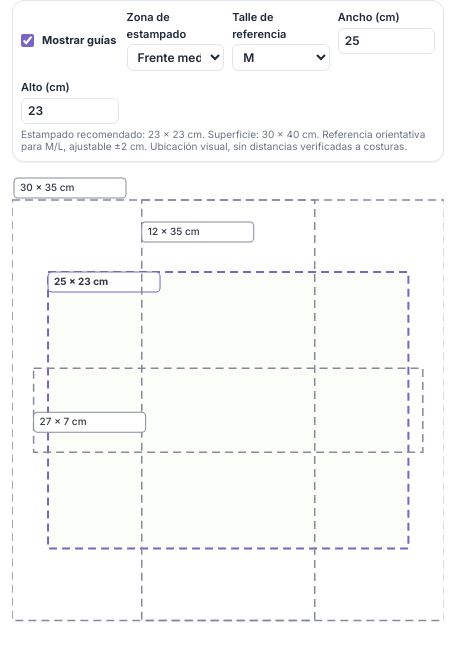
it: TshirtCanvas print guides › selects and adjusts a guide per size, and hides or shows it independently of Fabric
The width and height of the screenshot is (461, 667).
Earlier steps of the test are not shown.
Select "L" in the dropdown named "Talle de referencia de la guía" at (281, 58), box [232, 44, 330, 71]
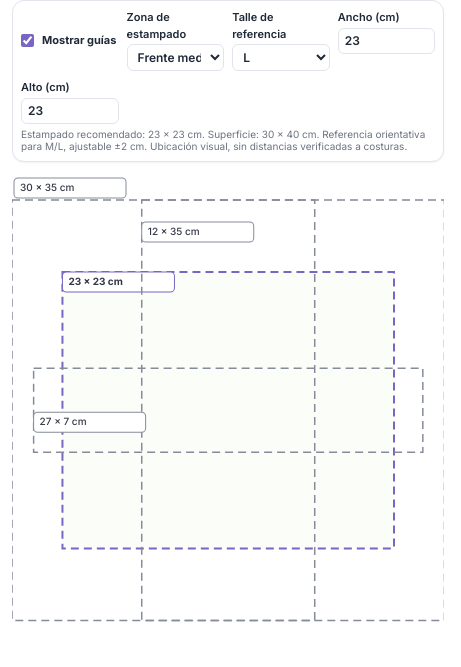
Now the number field named "Ancho de la guía en centímetros" holds "23"
Replace the text in the number field named "Ancho de la guía en centímetros" with "24" at (387, 40), box [338, 28, 435, 54]
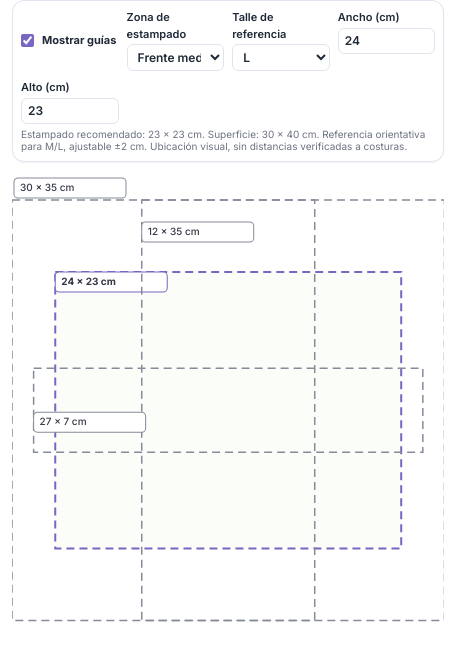
Select "M" in the dropdown named "Talle de referencia de la guía" at (281, 58), box [232, 44, 330, 71]
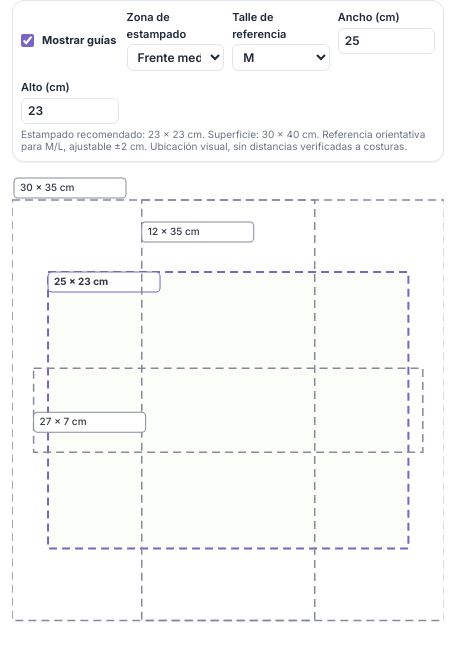
Select "L" in the dropdown named "Talle de referencia de la guía" at (281, 58), box [232, 44, 330, 71]
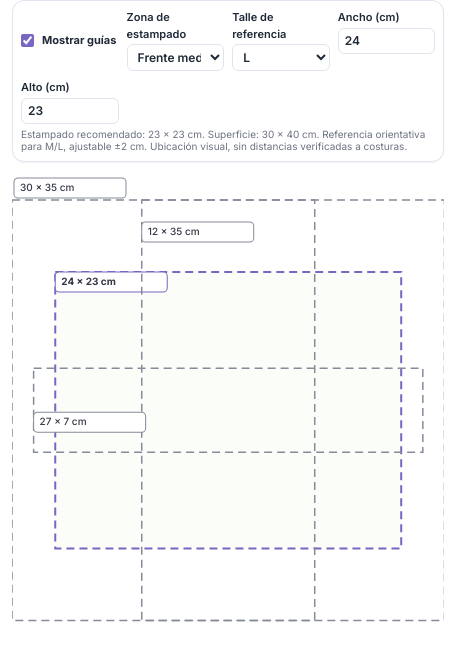
Click the checkbox labelled "Mostrar guías" at (28, 40), box [21, 34, 34, 46]
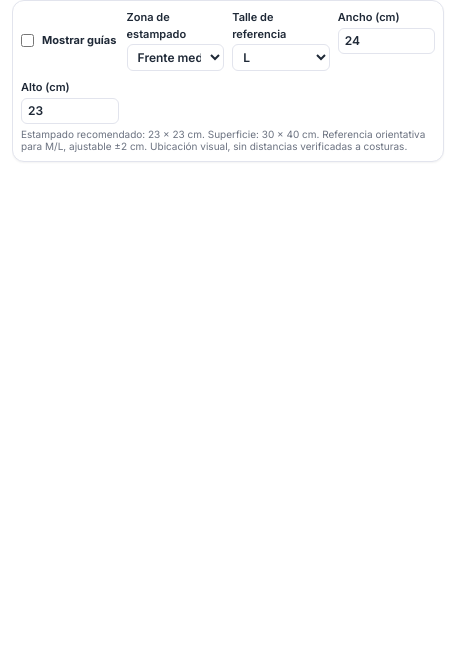
Click the checkbox labelled "Mostrar guías" at (28, 40), box [21, 34, 34, 46]
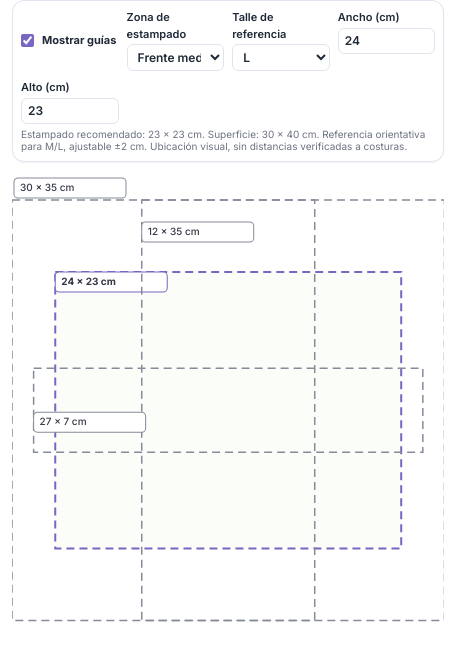
Now the icon "30 × 35 cm 24 × 23 cm 12 × 35 cm 27 × 7 cm" is shown
